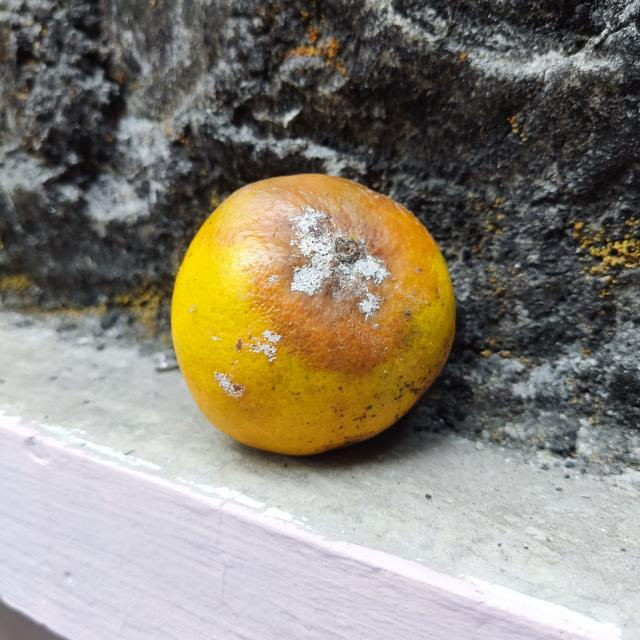orange: (168, 171, 454, 457)
